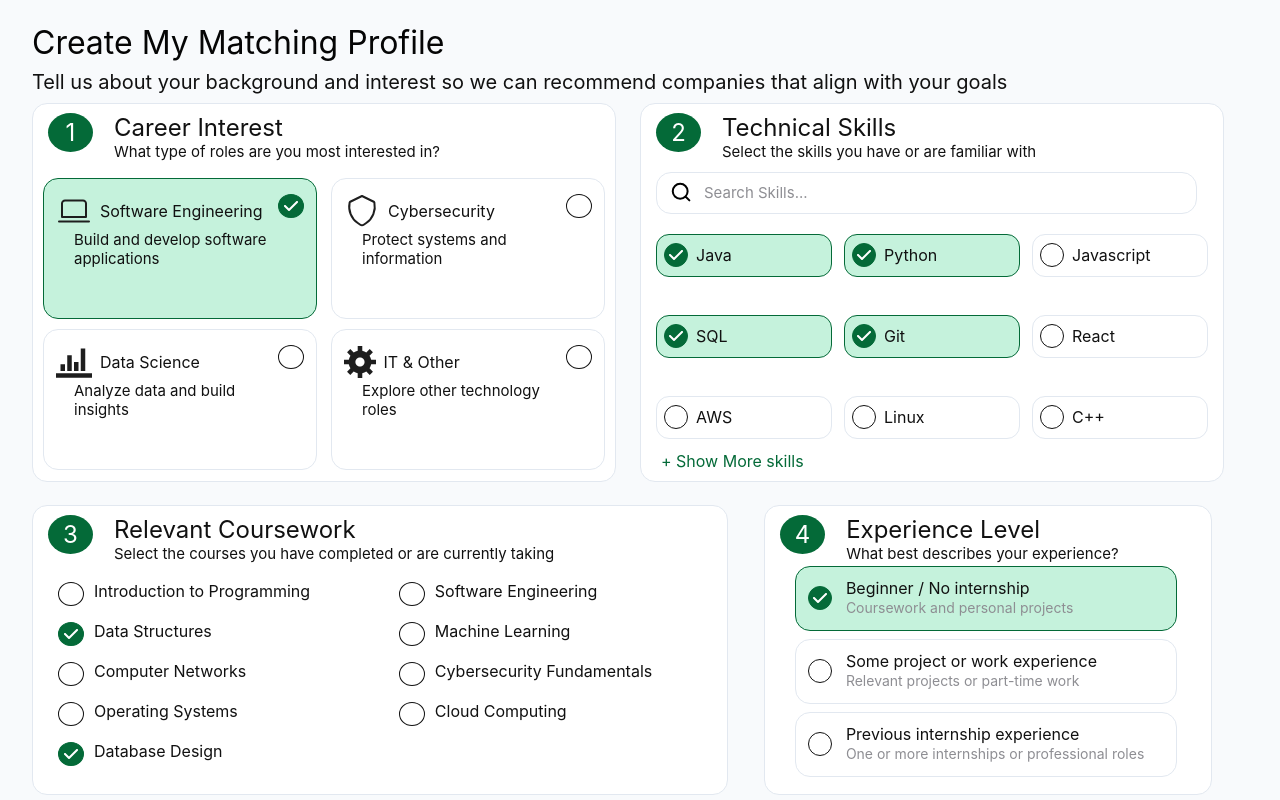
Scenario: MatchingProfile › persists new questionnaire answers and displays the saved profile
Expected: the heading "Create My Matching Profile" is shown, [32,23,444,62]
Click the radio button labelled "Cybersecurity Protect systems and information" at (468, 248), box [331,178,605,319]
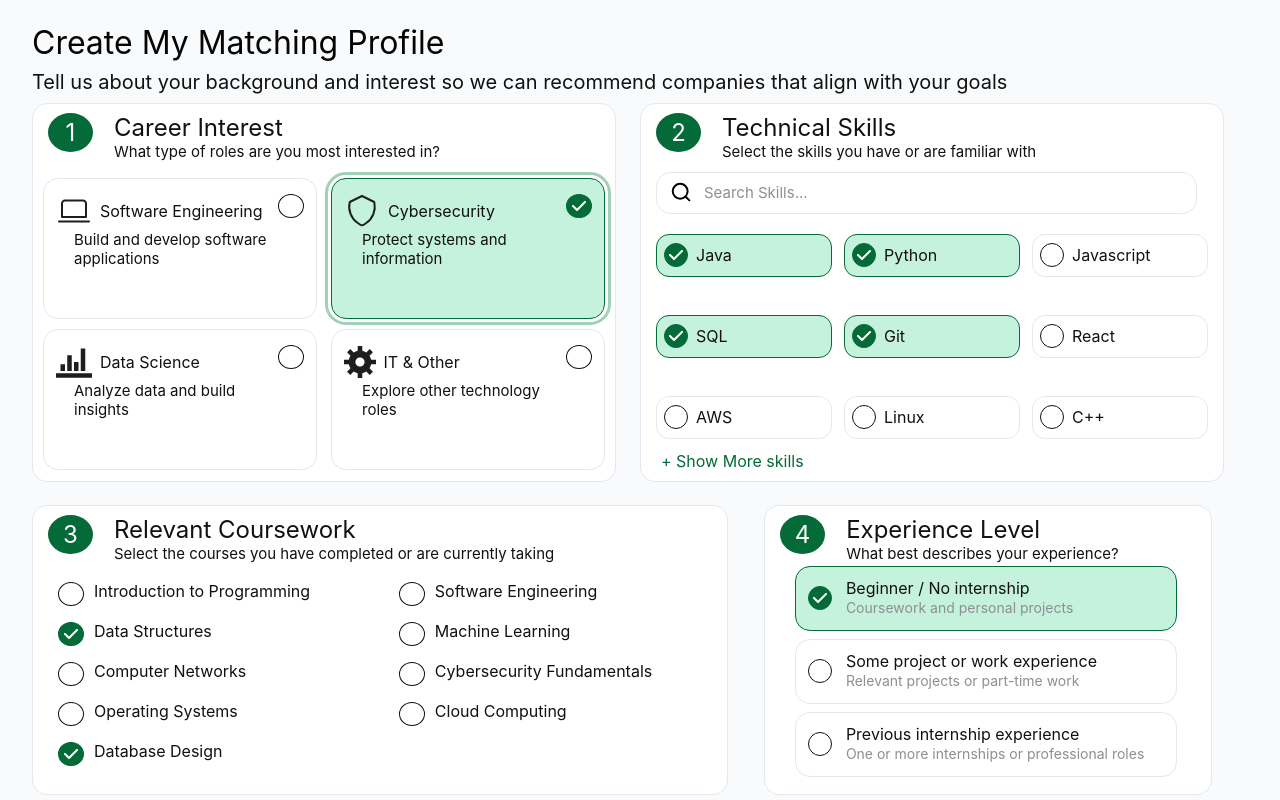
Click the button "Java" at (744, 255), box [656,234,832,277]
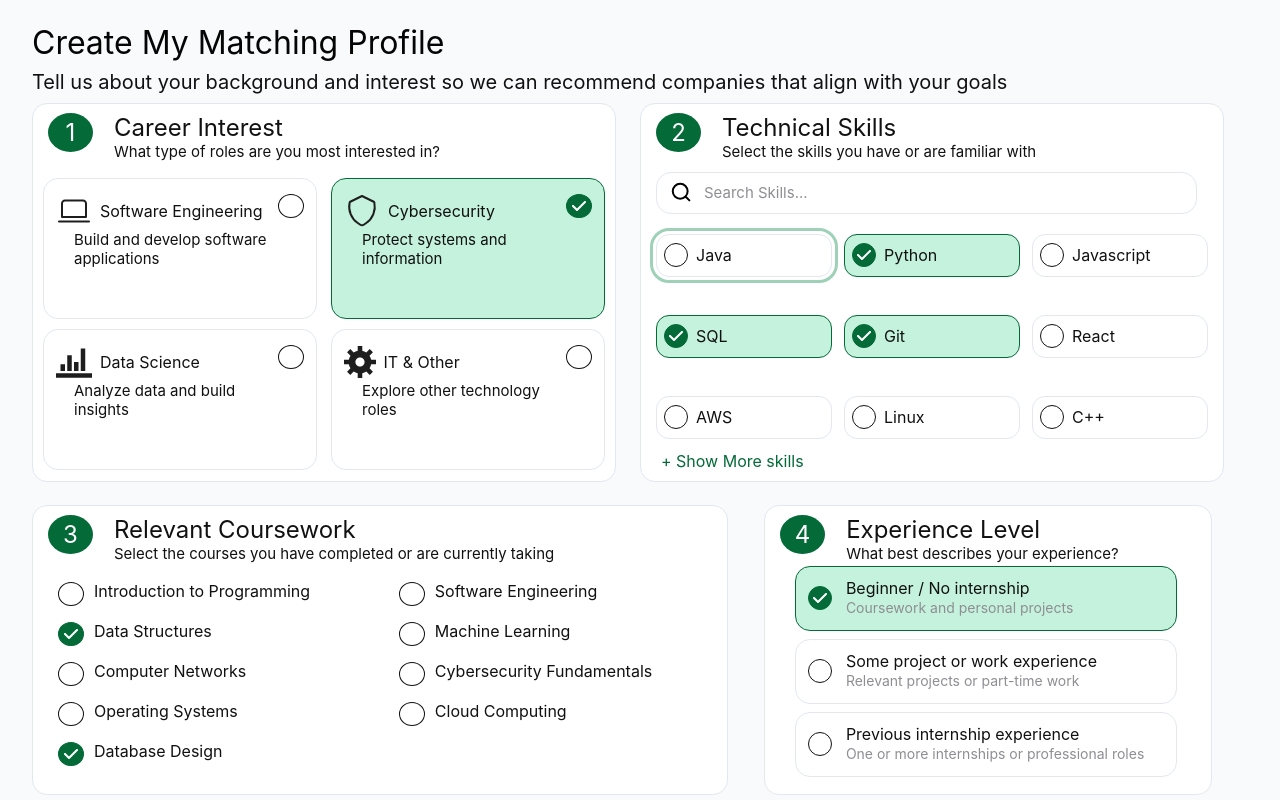
Click the checkbox labelled "Introduction to Programming" at (184, 593), box [58,581,310,606]
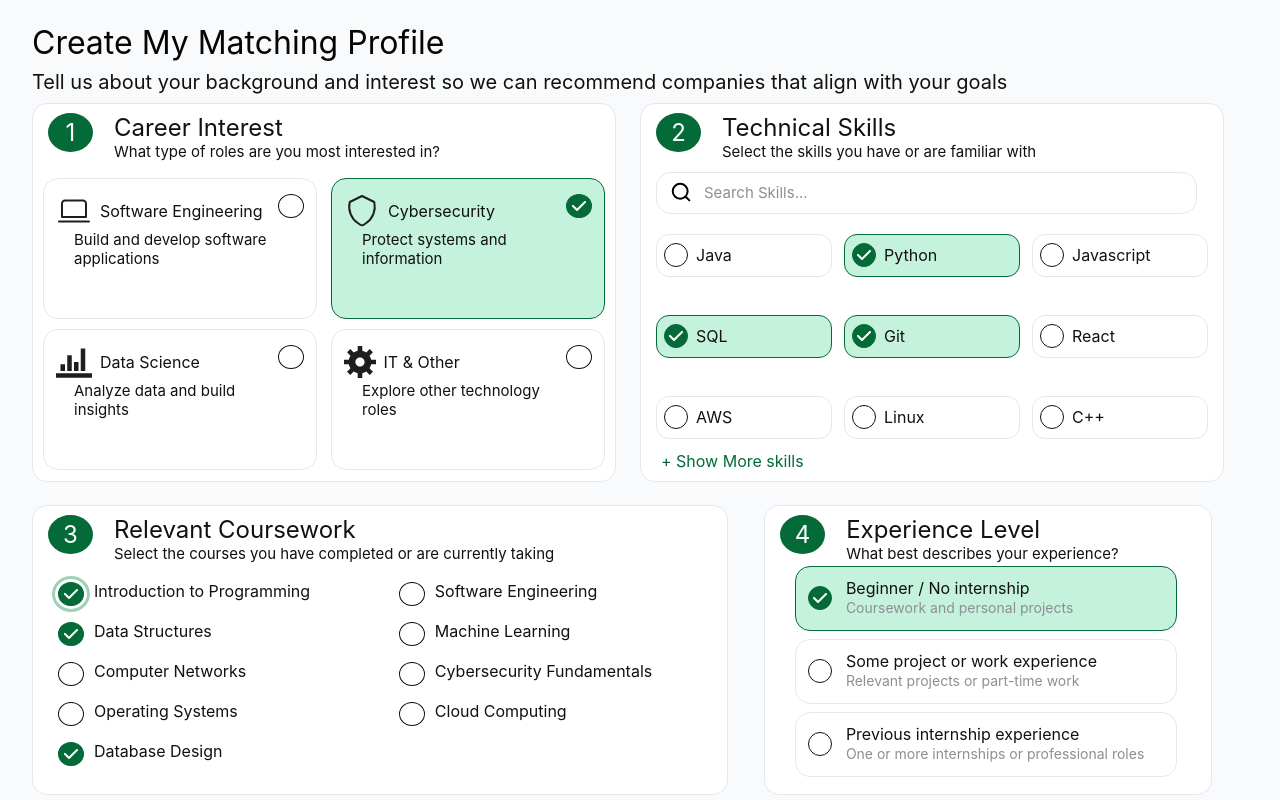
Click the radio button labelled "Previous internship experience" at (986, 744), box [795,712,1177,777]
(page scrolled)
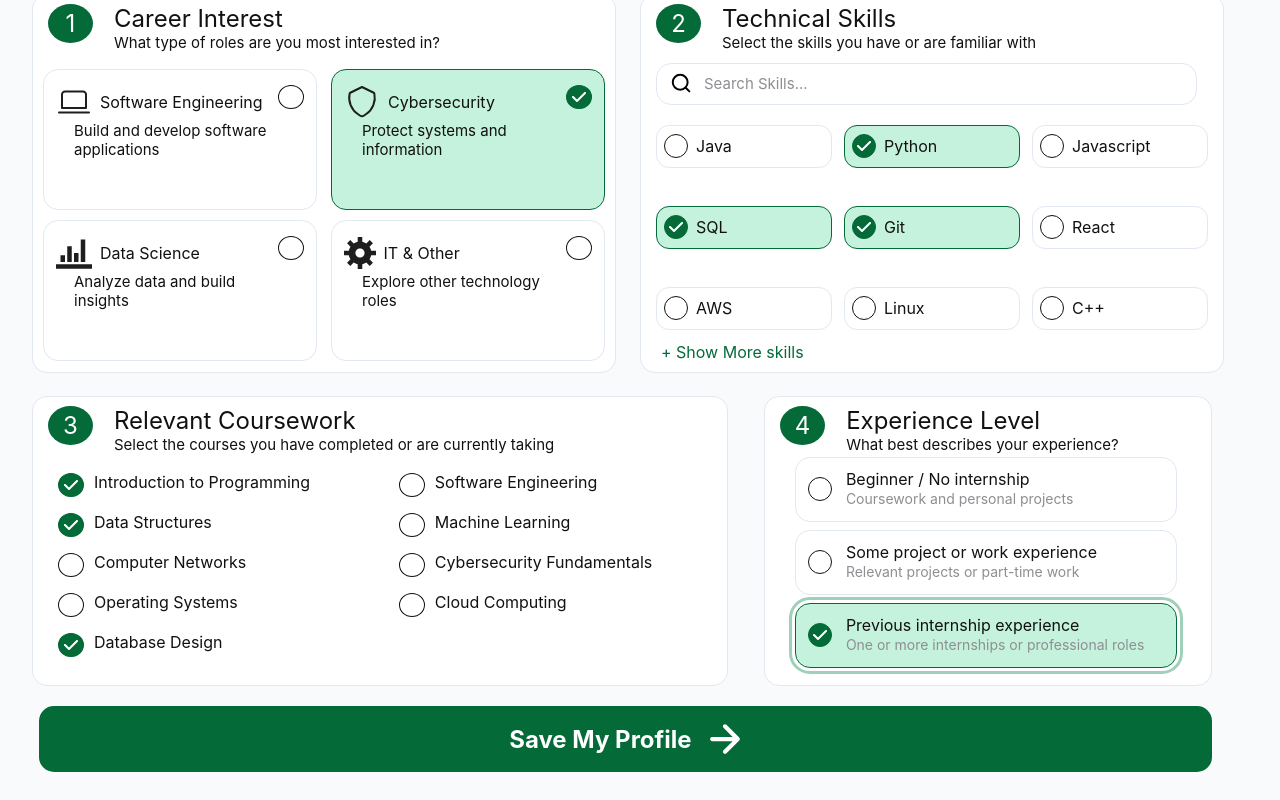
Click the button "Save My Profile" at (625, 739), box [39,706,1212,772]
(page scrolled)
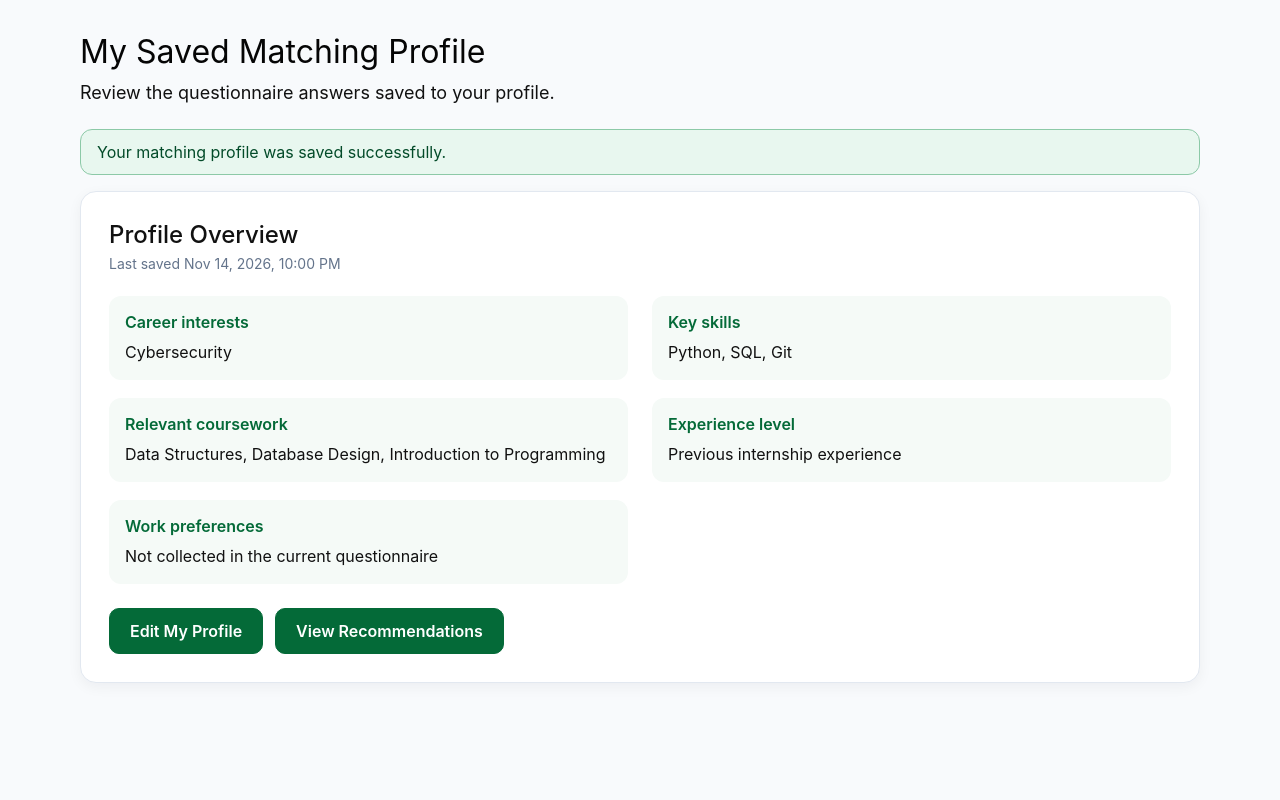
Expected: the text "Cybersecurity" is shown, [125,342,232,362]
Now the heading "My Saved Matching Profile" is shown, box [80,32,485,71]
